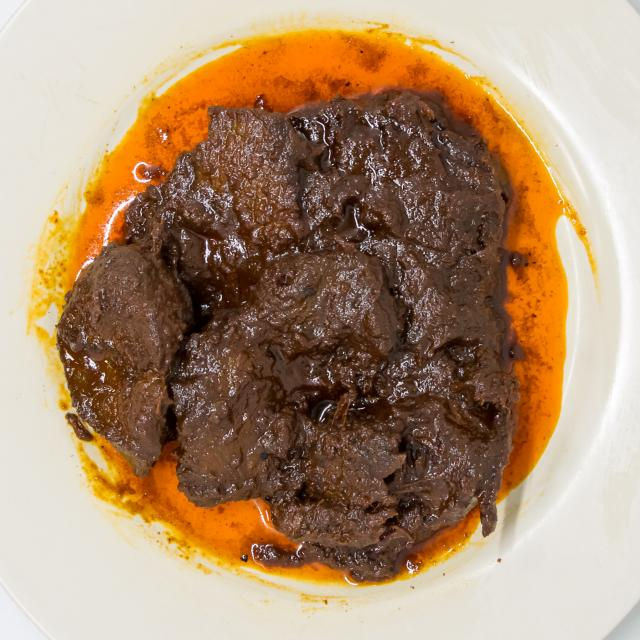Rendang: (52, 77, 526, 597)
